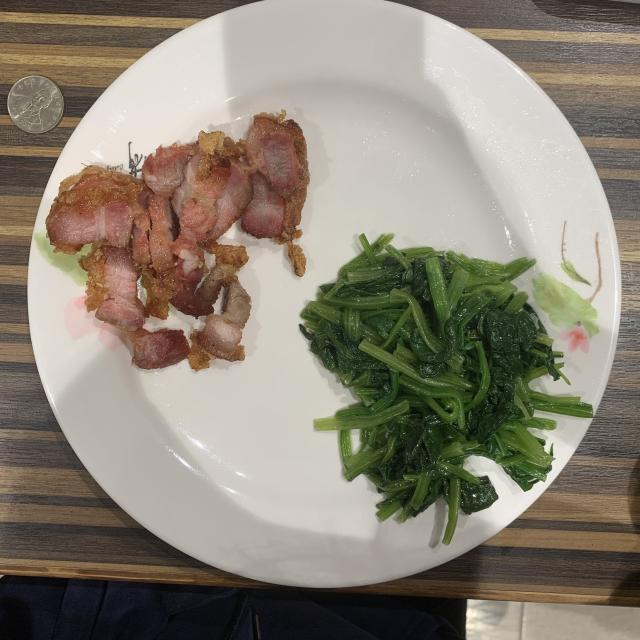coin: (8, 75, 64, 134)
mustard greens: (300, 234, 592, 544)
red grilled pork: (46, 111, 310, 370)
